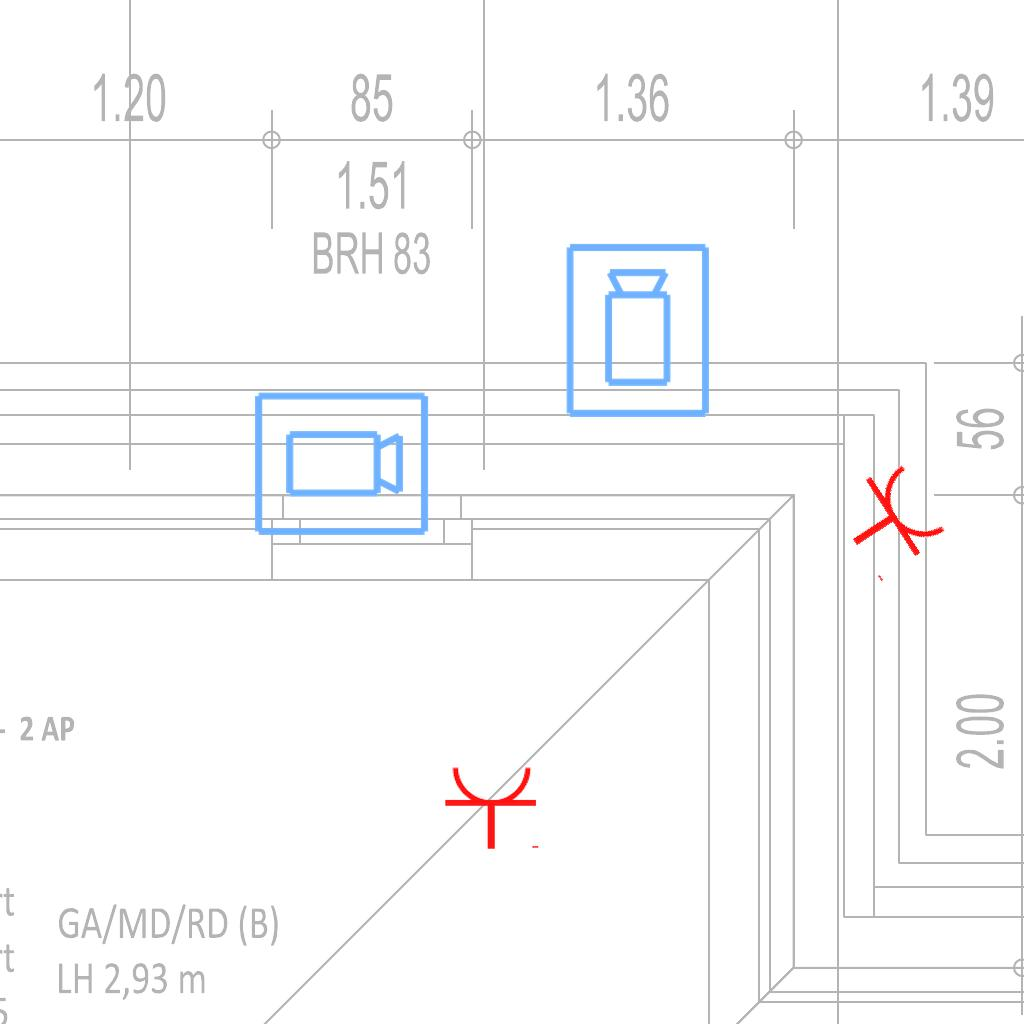KFO_Kamera_mit_Festobjektiv: (562, 240, 716, 422), (250, 388, 432, 542)
Schukosteckdose_einfach: (826, 455, 955, 587), (443, 764, 543, 851)
